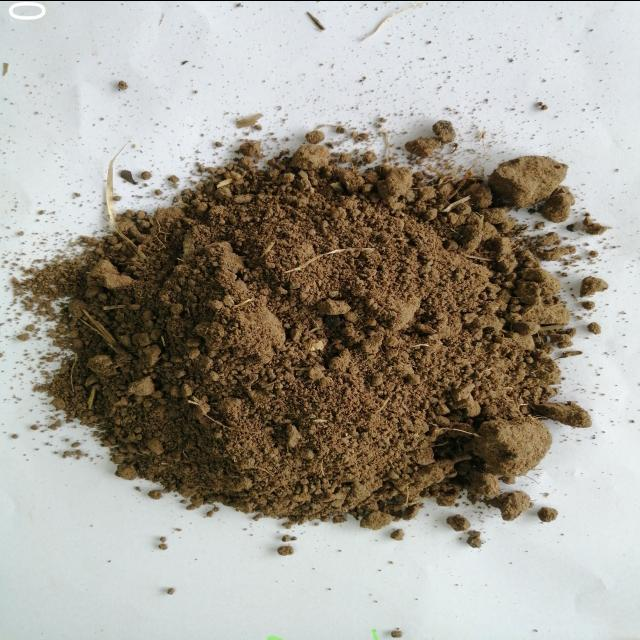soil: (116, 243, 498, 451)
